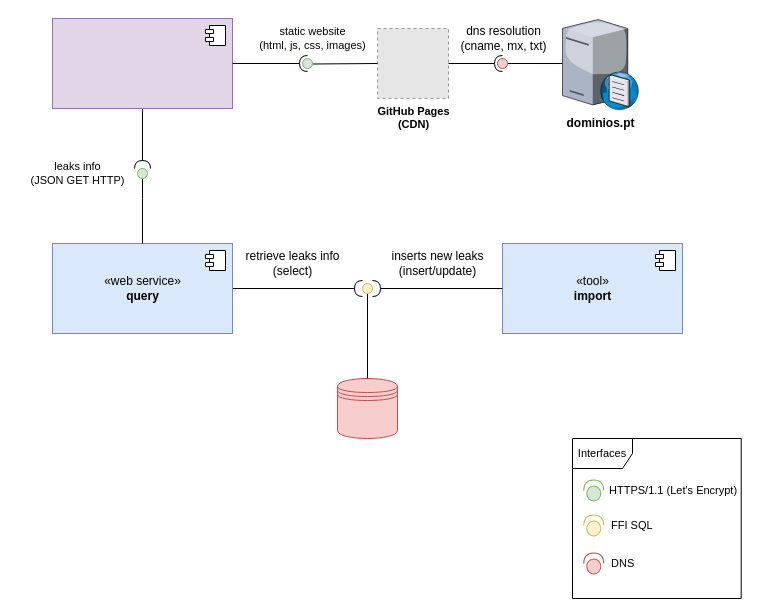
Image size: 779x616. Some labels were removed from this diagram. Grey dashed boxes stand in for pictures. The box of each missing label's shape, as (x1, y1, x2, y2) in pixels:
LeaksDB: (336, 378, 398, 438)
«web app» palavrapasse: (52, 18, 232, 108)
